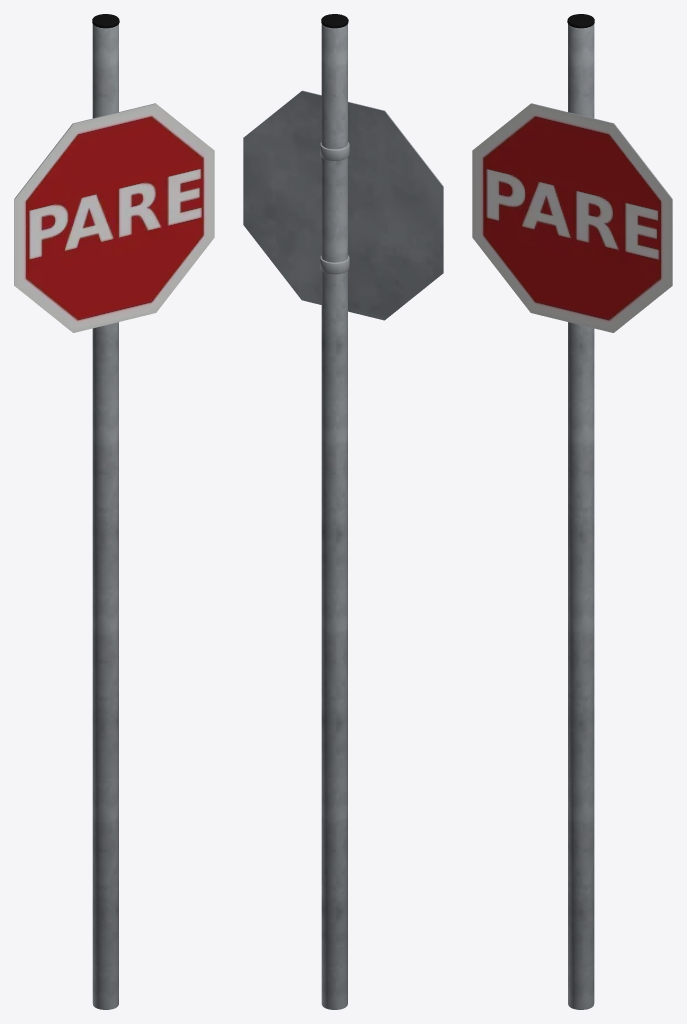
File: PAV-SIN-001_lod1.glb
3 views of the same model, side by side, from view 1: azimuth 30°, elevation 25°; view 2: azimuth 150°, elevation 25°; view 3: azimuth 330°, elevation 25° (orthographic).
Visible parts, largest first — view 1: PAV-SIN-001_placa, PAV-SIN-001_poste; view 2: PAV-SIN-001_placa, PAV-SIN-001_poste; view 3: PAV-SIN-001_placa, PAV-SIN-001_poste.
Part boxes in pixels (box(x1,y1,x2,y2)): PAV-SIN-001_placa: box(14, 103, 214, 332); PAV-SIN-001_poste: box(92, 24, 118, 1009); PAV-SIN-001_placa: box(243, 90, 443, 320); PAV-SIN-001_poste: box(321, 24, 347, 1009); PAV-SIN-001_placa: box(472, 103, 672, 332); PAV-SIN-001_poste: box(568, 24, 594, 1009).
Size of the model in its own units: 0.5543 by 2.61 by 0.079.
3 materials, 3 textured.
